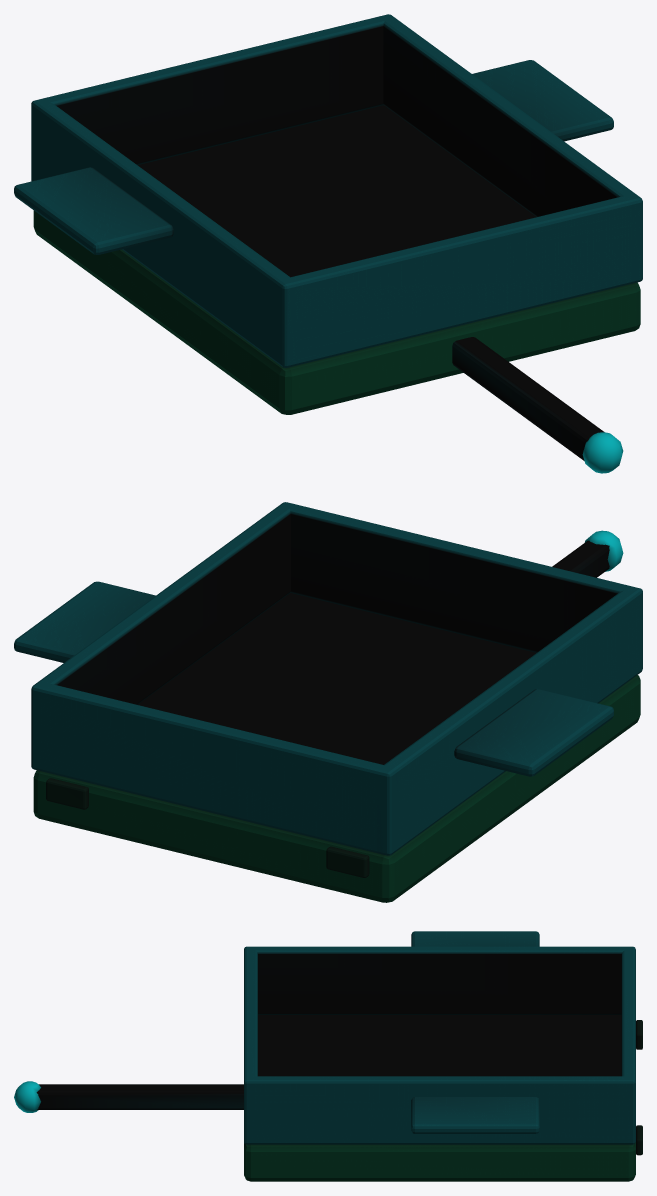
The model's file is trailer.glb.
3 views of the same model, one above another, from view 1: azimuth 30°, elevation 25°; view 2: azimuth 150°, elevation 25°; view 3: azimuth 270°, elevation 25° (orthographic). The views are drawn at different scales.
Visible parts, largest first — view 1: trailer; view 2: trailer; view 3: trailer.
Boxes of the visible parts, x1,y1,x2,y2 form: trailer: (14, 14, 642, 473); trailer: (14, 502, 642, 902); trailer: (14, 931, 642, 1181).
Bounding box in the file's own units: 1.3 × 0.32 × 1.76.
Materials: 1 (1 with a texture image).
